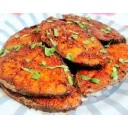seerfish: (1, 47, 74, 97), (40, 17, 109, 67), (77, 44, 128, 98)
